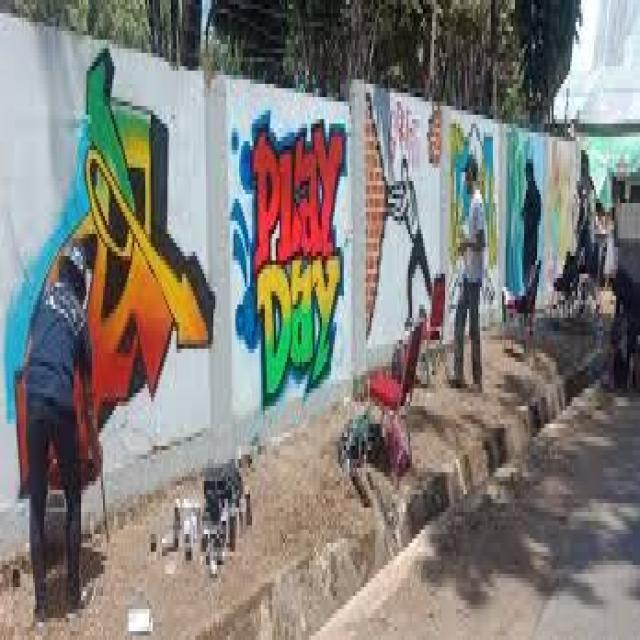-: (2, 44, 218, 504), (228, 107, 346, 412), (366, 99, 442, 339), (450, 119, 498, 304), (506, 128, 550, 301), (552, 143, 594, 284)
